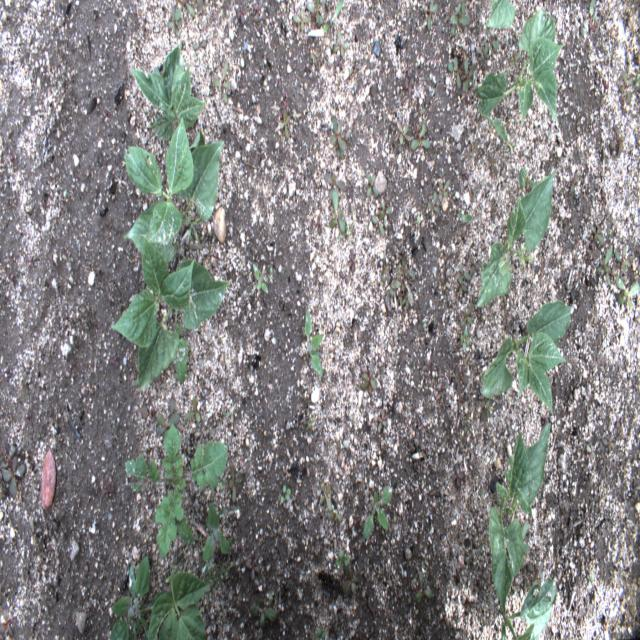crop: (112, 234, 230, 392), (108, 501, 237, 639), (488, 420, 559, 640), (122, 115, 225, 266), (474, 8, 564, 144), (480, 300, 572, 416), (477, 171, 554, 309), (130, 40, 209, 140), (485, 0, 517, 30)
weed: (124, 425, 233, 561), (362, 484, 393, 541), (303, 309, 324, 379), (325, 188, 353, 236), (1, 443, 26, 494), (155, 396, 182, 438), (251, 587, 278, 628), (614, 276, 639, 311), (371, 199, 393, 236), (330, 116, 349, 158), (594, 245, 613, 286), (463, 50, 479, 98), (446, 47, 463, 92), (212, 62, 230, 104), (608, 242, 632, 272), (420, 0, 440, 34), (579, 0, 597, 37), (331, 26, 351, 58), (451, 0, 468, 35), (310, 6, 330, 35), (617, 70, 634, 104), (166, 5, 182, 40), (416, 574, 434, 605), (290, 6, 312, 31), (360, 359, 376, 393), (435, 178, 450, 210), (185, 393, 201, 422), (326, 497, 343, 522), (279, 105, 291, 139), (228, 468, 237, 513), (410, 121, 425, 148), (367, 174, 381, 200), (396, 120, 410, 145), (334, 550, 351, 570), (255, 269, 268, 295), (458, 263, 468, 295), (332, 0, 345, 23), (462, 302, 473, 325), (280, 487, 292, 504), (459, 332, 471, 349), (591, 226, 603, 243), (458, 212, 472, 225), (308, 51, 318, 64)
